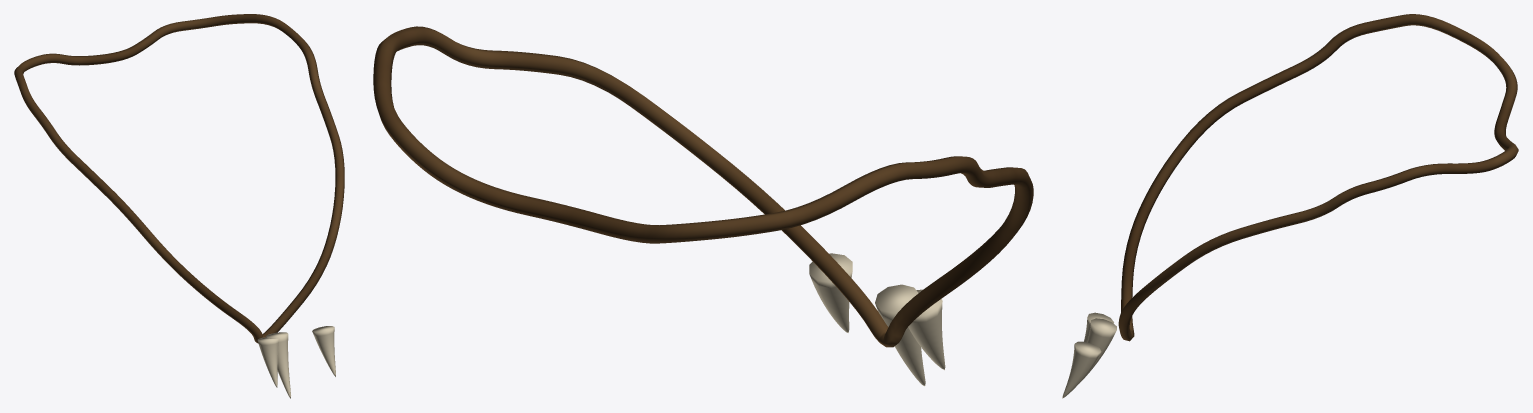
File: tooth_charm.glb
3 views of the same model, side by side, from view 1: azimuth 30°, elevation 25°; view 2: azimuth 150°, elevation 25°; view 3: azimuth 270°, elevation 25° (orthographic). The views are drawn at different scales.
Parts seen in each view (by area): view 1: tooth_charm; view 2: tooth_charm; view 3: tooth_charm.
Boxes of the visible parts, <box> form: tooth_charm: <box>14,14,344,398</box>; tooth_charm: <box>373,26,1033,386</box>; tooth_charm: <box>1062,14,1518,398</box>.
Bounding box in the file's own units: 0.1084 × 0.0922 × 0.1269.
